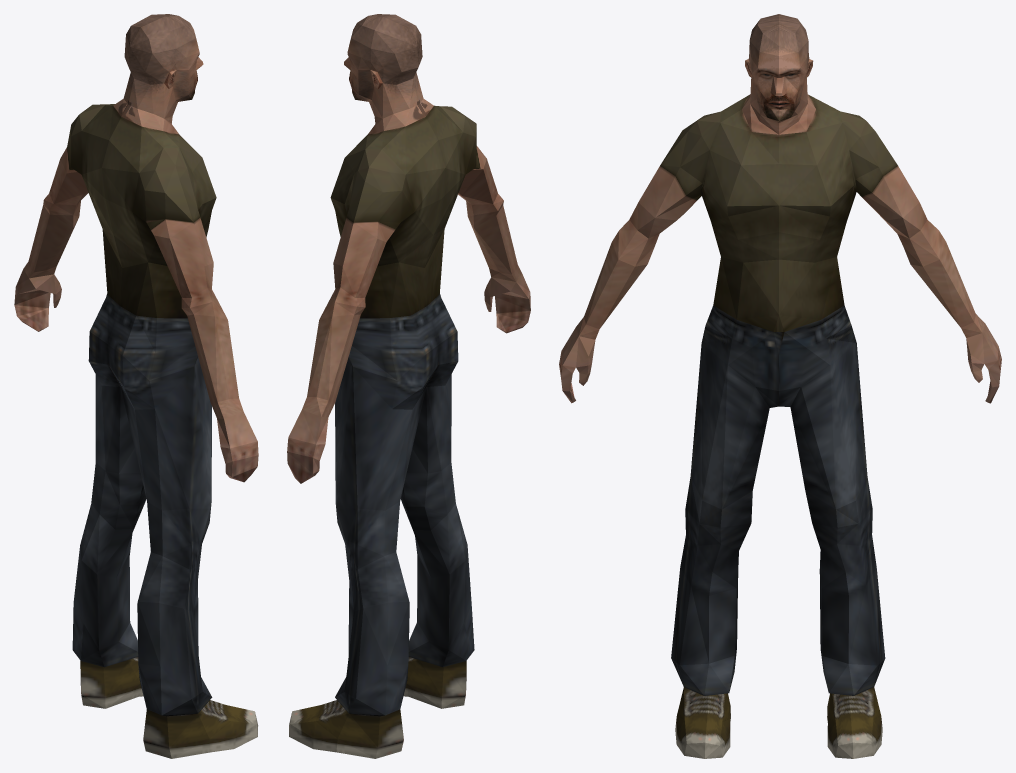
Rendered from vwmycd.obj.
3 views of the same model, side by side, from view 1: azimuth 30°, elevation 25°; view 2: azimuth 150°, elevation 25°; view 3: azimuth 270°, elevation 25° (orthographic).
Parts seen in each view (by area): view 1: _Pelvis; view 2: _Pelvis; view 3: _Pelvis.
Part boxes in pixels (x1,y1,x2,y2): _Pelvis: (14,14,258,758); _Pelvis: (287,14,530,758); _Pelvis: (559,14,1001,758).
Bounding box in the file's own units: 0.3234 × 1.8 × 1.01.
Materials: 1 (1 with a texture image).
